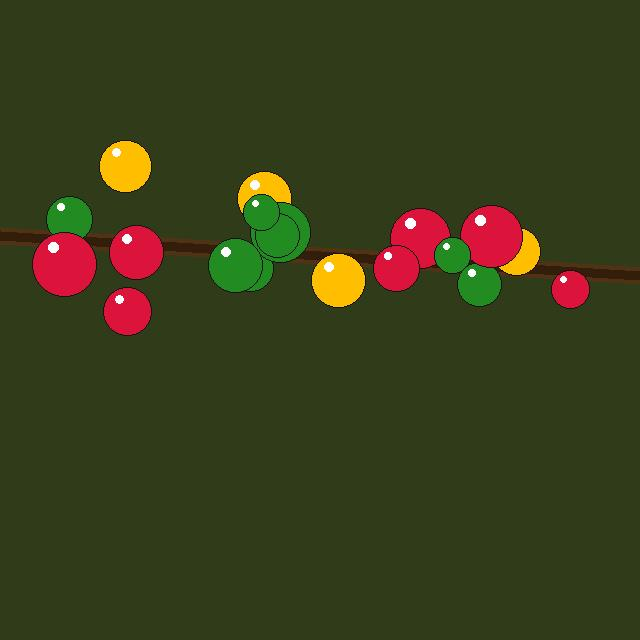Ripe: (32, 232, 96, 296), (460, 205, 522, 267), (390, 208, 450, 268), (109, 225, 163, 279), (103, 287, 151, 335), (373, 245, 419, 291), (551, 270, 589, 308)
Ripening: (311, 253, 365, 307), (237, 171, 291, 225), (99, 140, 151, 192), (492, 227, 540, 275)
Unripe: (250, 202, 310, 262), (208, 238, 262, 292), (227, 245, 273, 291), (46, 196, 92, 242), (457, 262, 501, 306), (255, 213, 299, 257), (243, 194, 279, 230), (434, 237, 470, 273)
